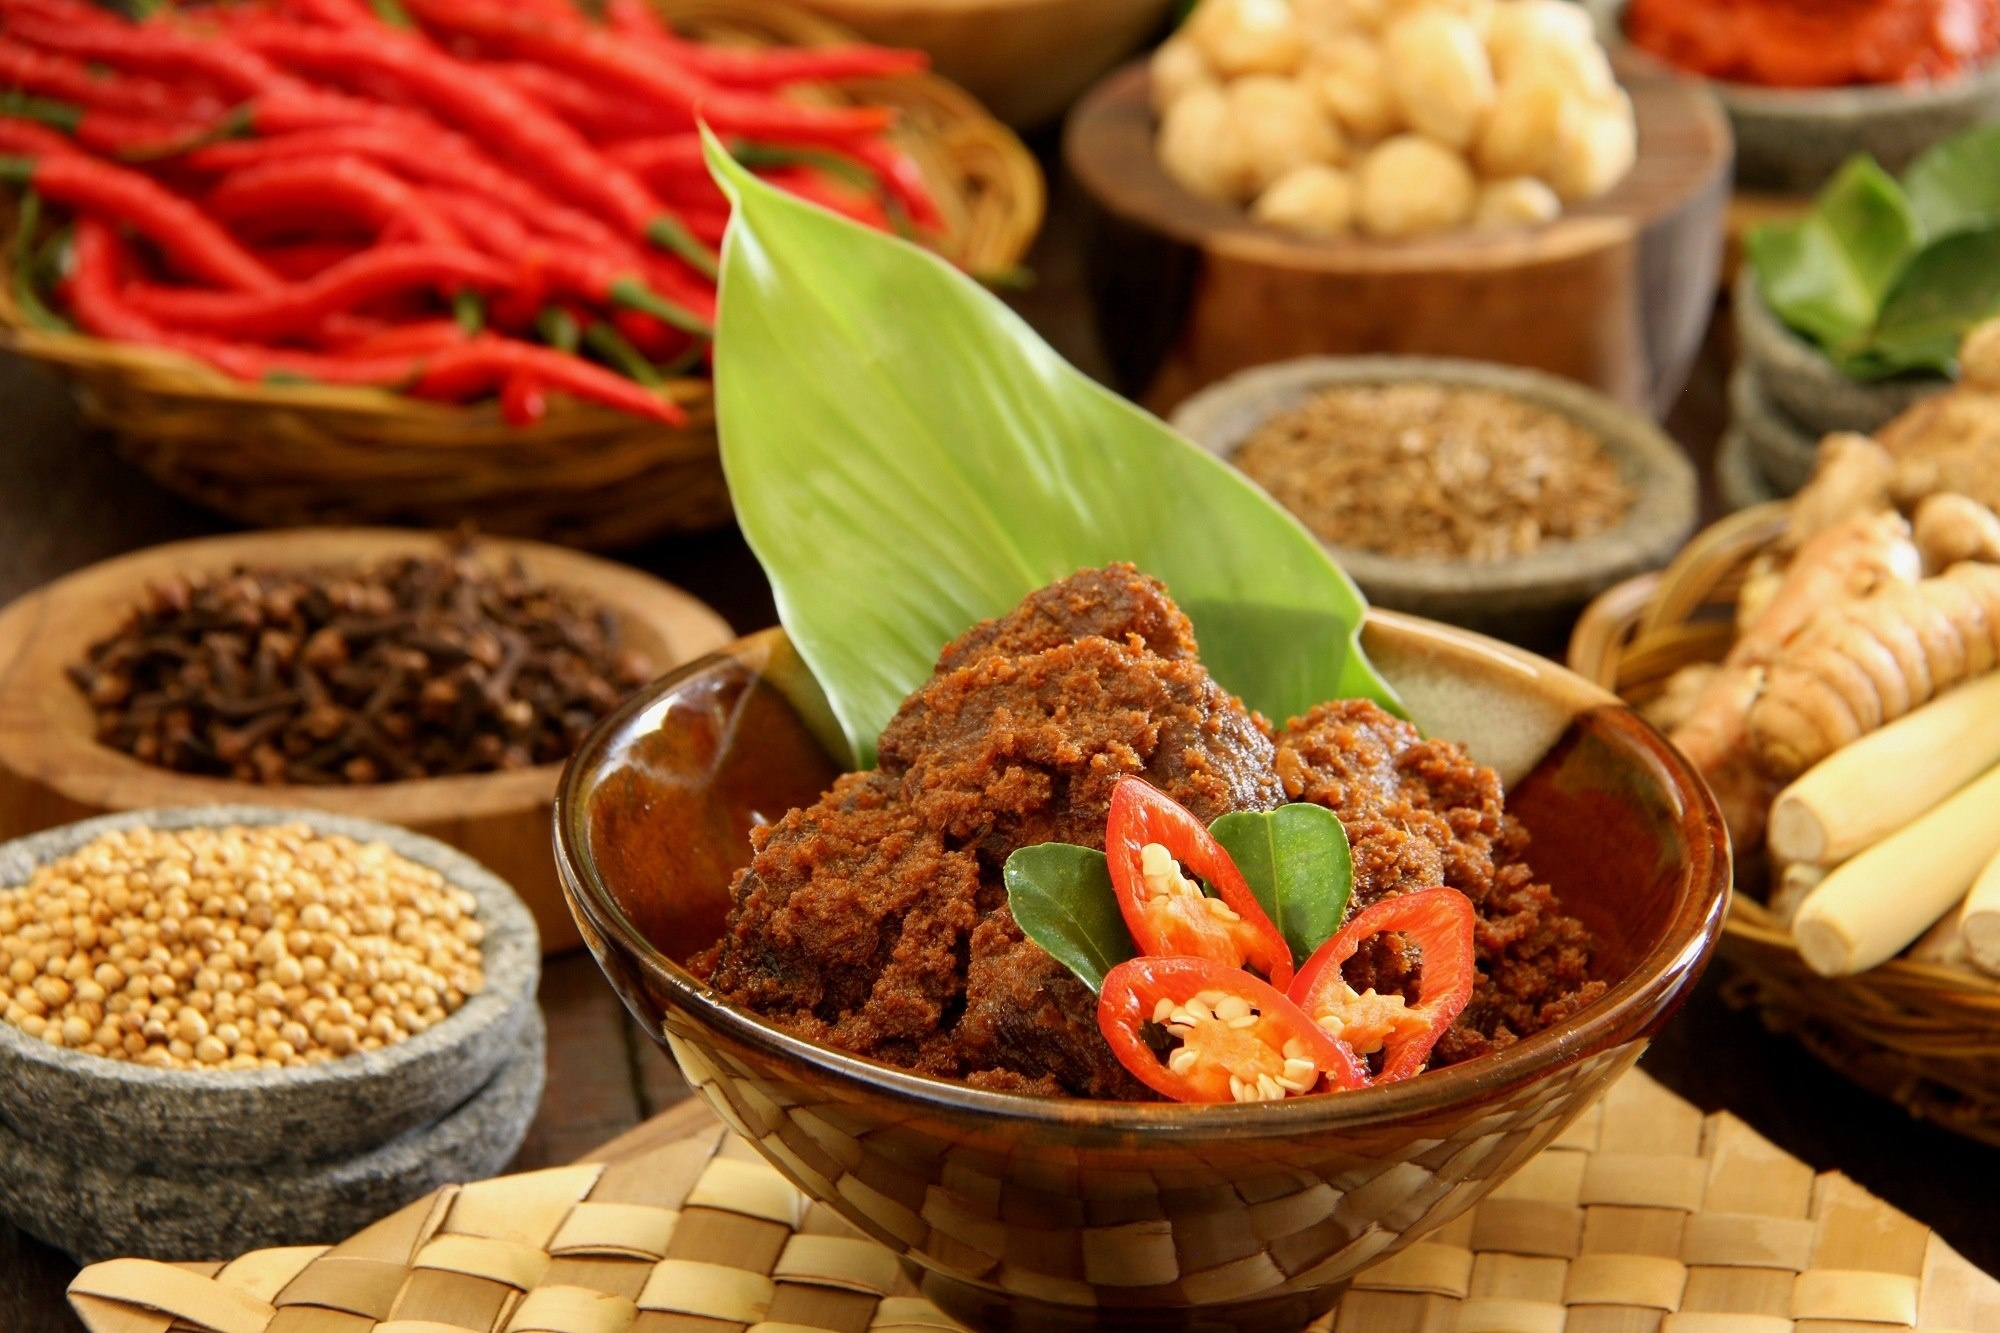rendang: (746, 556, 1607, 1151)
